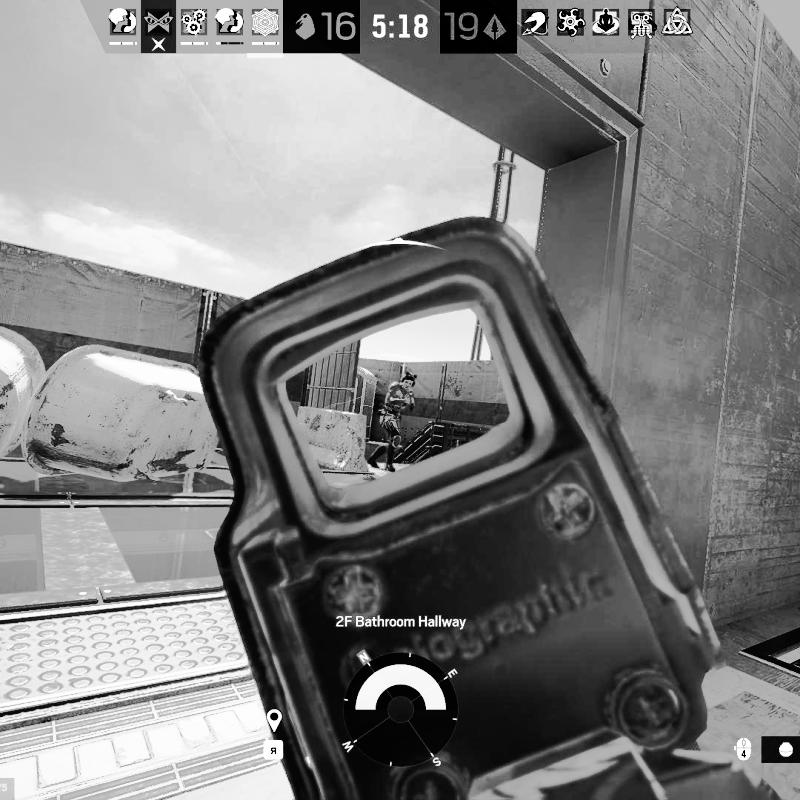Character: (368, 372, 420, 473)
Head: (401, 373, 415, 393)
